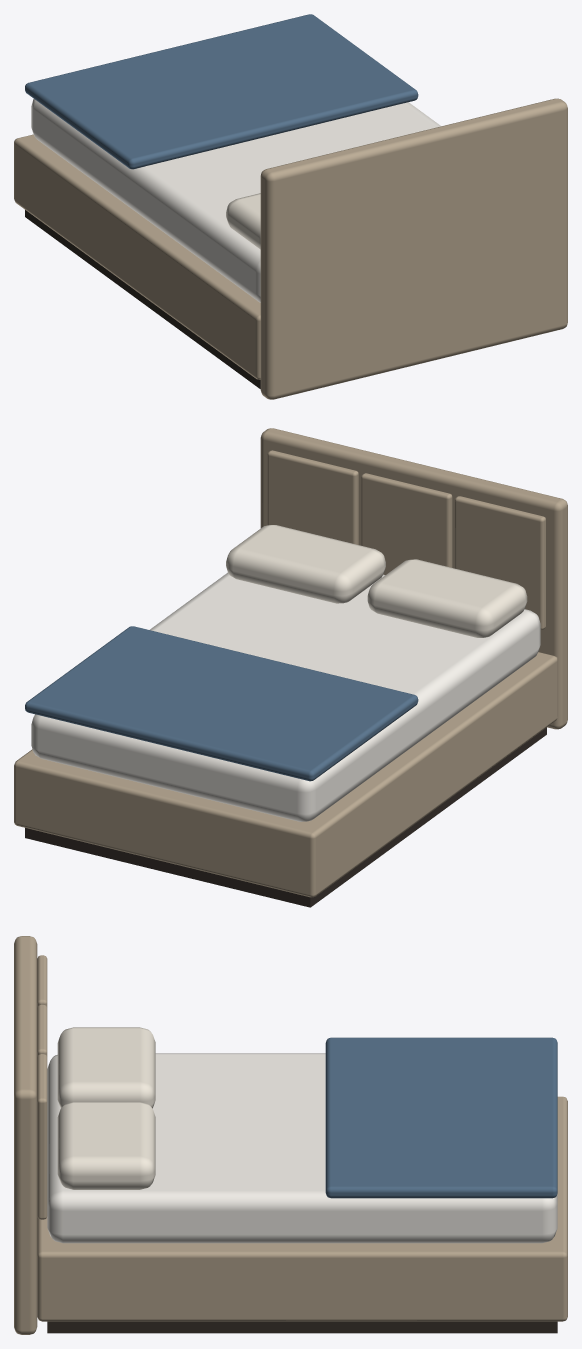
The picture shows the model from 3 angles, top to bottom: view 1: azimuth 30°, elevation 25°; view 2: azimuth 150°, elevation 25°; view 3: azimuth 270°, elevation 25°; orthographic projection. The views are drawn at different scales.
Visible parts, largest first — view 1: base, blanket, mattress, plinth, pillow-1; view 2: base, mattress, blanket, pillow-1, plinth; view 3: base, mattress, blanket, pillow-1, plinth.
Part boxes in pixels (x1,y1,x2,y2): base: [14, 98, 567, 399]; blanket: [25, 14, 418, 169]; mattress: [31, 99, 440, 302]; plinth: [25, 210, 260, 388]; pillow-1: [226, 193, 260, 249]; base: [14, 428, 567, 897]; mattress: [31, 572, 540, 821]; blanket: [25, 626, 418, 781]; pillow-1: [226, 525, 527, 637]; plinth: [25, 727, 546, 907]; base: [14, 936, 567, 1334]; mattress: [47, 1053, 557, 1243]; blanket: [325, 1037, 557, 1198]; pillow-1: [57, 1027, 155, 1189]; plinth: [47, 1321, 557, 1333].
Bounding box in the file's own units: 1.46 × 1.05 × 2.15.
